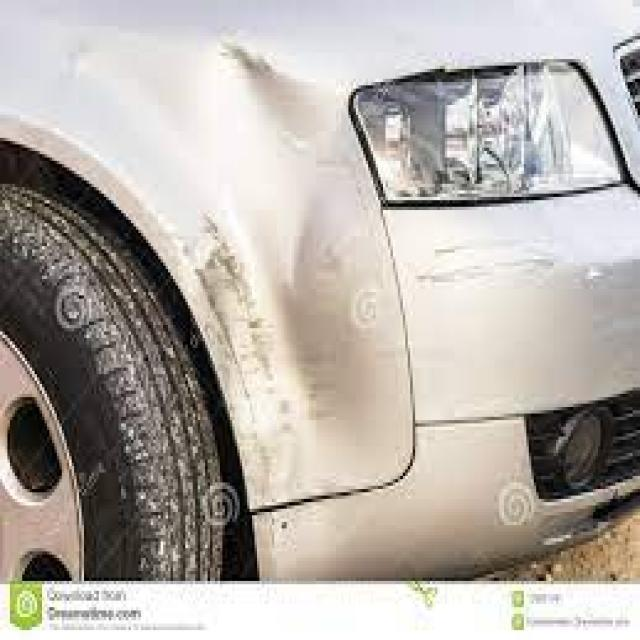dent-or-scratch: (197, 43, 378, 414), (413, 238, 572, 284)
